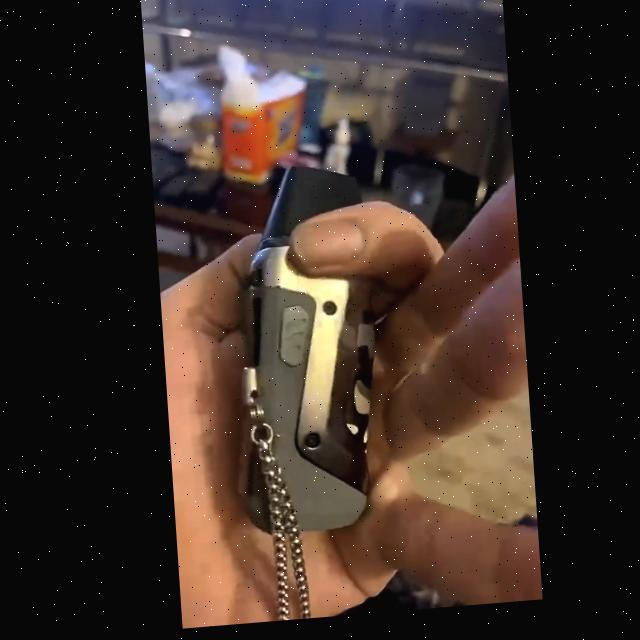vape: (220, 162, 375, 541)
